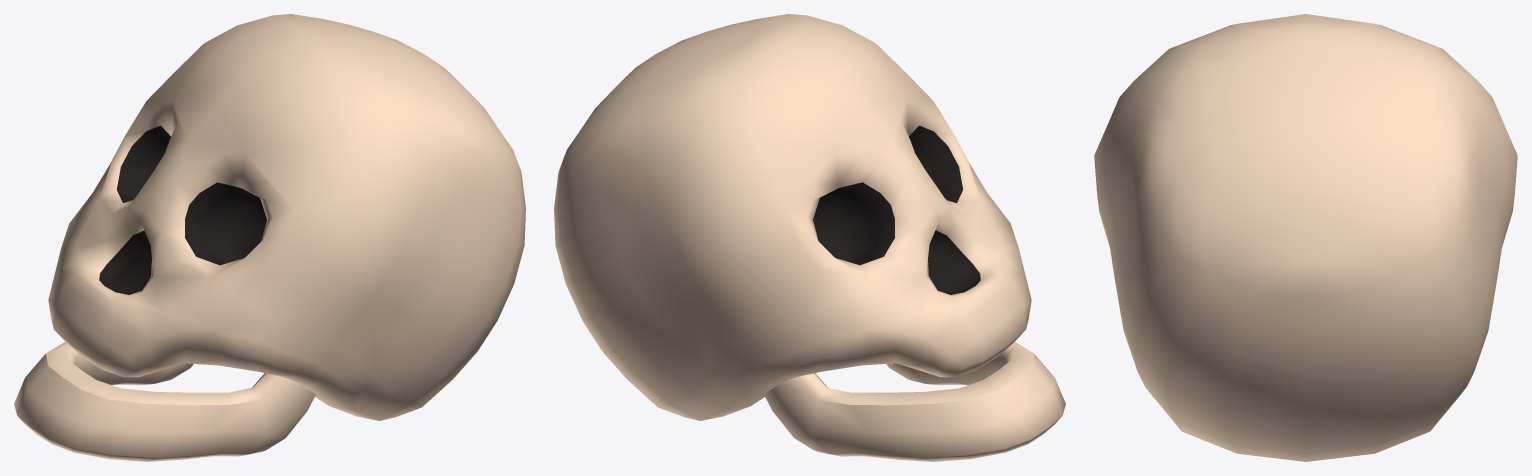
File: Skull.fbx
The picture shows the model from 3 angles, left to right: view 1: azimuth 30°, elevation 25°; view 2: azimuth 150°, elevation 25°; view 3: azimuth 270°, elevation 25°; orthographic projection. The views are drawn at different scales.
Parts seen in each view (by area): view 1: Skull; view 2: Skull; view 3: Skull.
Boxes of the visible parts, x1,y1,x2,y2 form: Skull: [14, 14, 525, 461]; Skull: [554, 14, 1065, 461]; Skull: [1094, 14, 1517, 461].
Size of the model in its own units: 60.06 by 46.1 by 43.83.
